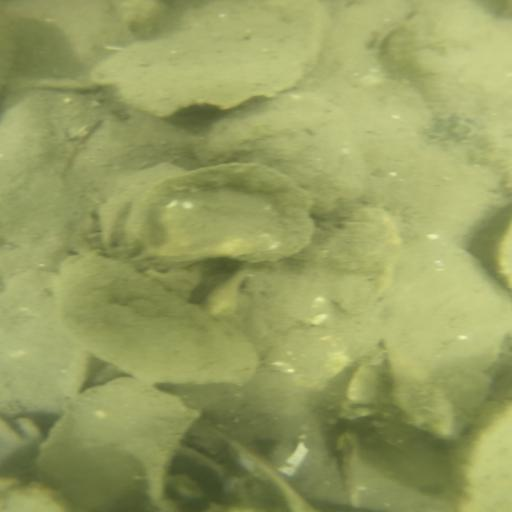Oyster-Closed: (53, 250, 262, 388), (90, 1, 332, 119), (379, 237, 512, 441), (108, 161, 330, 272), (32, 377, 202, 512), (196, 93, 374, 215)
